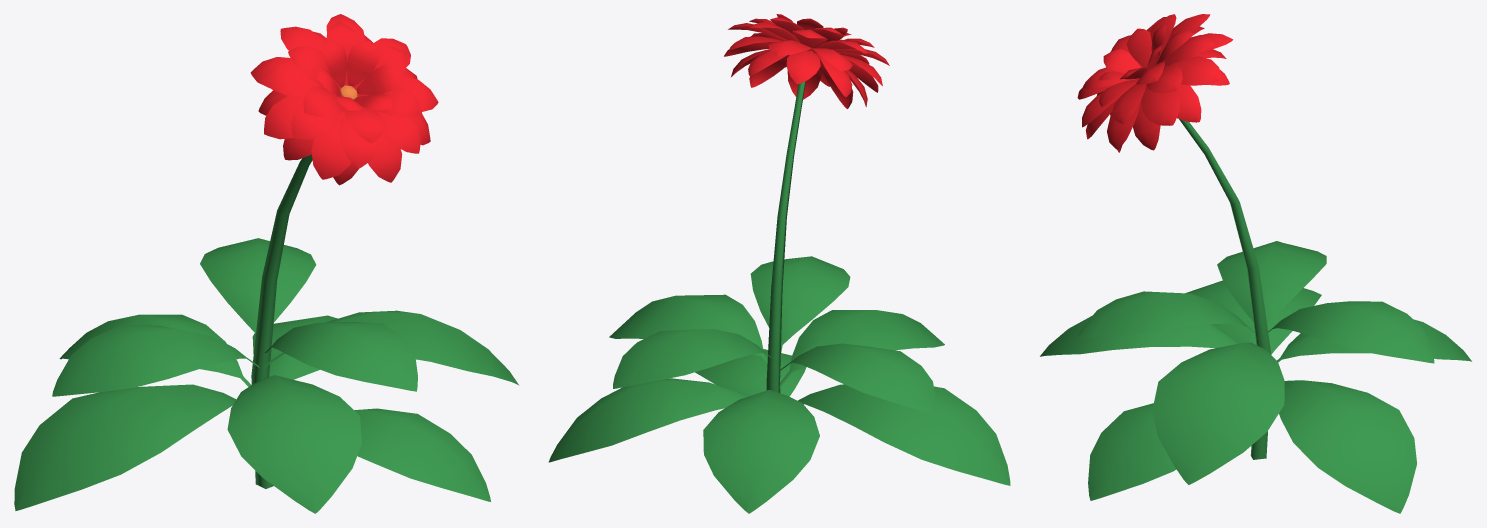
File: flowerb.glb
The picture shows the model from 3 angles, left to right: view 1: azimuth 30°, elevation 25°; view 2: azimuth 150°, elevation 25°; view 3: azimuth 270°, elevation 25°; orthographic projection. The views are drawn at different scales.
Parts seen in each view (by area): view 1: Flower_A_12, Flower_A_1, Flower_A_5, Flower_A_6, Flower_A_2, Flower_A_8, Flower_A_9, Flower_A_4, Flower_A_10, Flower_A_7, Flower_A_3; view 2: Flower_A_7, Flower_A_1, Flower_A_12, Flower_A_3, Flower_A_6, Flower_A_9, Flower_A_8, Flower_A_5, Flower_A_4, Flower_A_10, Flower_A_2; view 3: Flower_A_4, Flower_A_12, Flower_A_3, Flower_A_9, Flower_A_2, Flower_A_8, Flower_A_6, Flower_A_5, Flower_A_10, Flower_A_1, Flower_A_7.
Part boxes in pixels (left/top/right/bottom): Flower_A_12: left=250, top=14, right=438, bottom=185; Flower_A_1: left=14, top=384, right=236, bottom=510; Flower_A_5: left=227, top=375, right=361, bottom=513; Flower_A_6: left=52, top=325, right=259, bottom=396; Flower_A_2: left=354, top=408, right=490, bottom=501; Flower_A_8: left=265, top=322, right=417, bottom=391; Flower_A_9: left=200, top=238, right=316, bottom=333; Flower_A_4: left=264, top=310, right=519, bottom=385; Flower_A_10: left=251, top=154, right=312, bottom=488; Flower_A_7: left=59, top=314, right=251, bottom=386; Flower_A_3: left=252, top=315, right=337, bottom=379; Flower_A_7: left=703, top=390, right=819, bottom=513; Flower_A_1: left=798, top=384, right=1010, bottom=485; Flower_A_12: left=724, top=14, right=889, bottom=108; Flower_A_3: left=548, top=378, right=747, bottom=462; Flower_A_6: left=779, top=343, right=936, bottom=415; Flower_A_9: left=613, top=329, right=771, bottom=388; Flower_A_8: left=750, top=256, right=850, bottom=354; Flower_A_5: left=779, top=310, right=944, bottom=388; Flower_A_4: left=609, top=294, right=767, bottom=363; Flower_A_10: left=766, top=81, right=805, bottom=392; Flower_A_2: left=695, top=349, right=806, bottom=396; Flower_A_4: left=1152, top=342, right=1284, bottom=484; Flower_A_12: left=1077, top=14, right=1233, bottom=152; Flower_A_3: left=1279, top=380, right=1416, bottom=513; Flower_A_9: left=1268, top=301, right=1434, bottom=363; Flower_A_2: left=1088, top=403, right=1176, bottom=500; Flower_A_8: left=1076, top=291, right=1255, bottom=339; Flower_A_6: left=1217, top=241, right=1326, bottom=324; Flower_A_5: left=1040, top=316, right=1237, bottom=356; Flower_A_10: left=1179, top=119, right=1271, bottom=459; Flower_A_1: left=1185, top=280, right=1321, bottom=354; Flower_A_7: left=1277, top=319, right=1471, bottom=362.
Size of the model in its own units: 0.706 by 0.6831 by 0.6096.
1 material, 1 textured.
